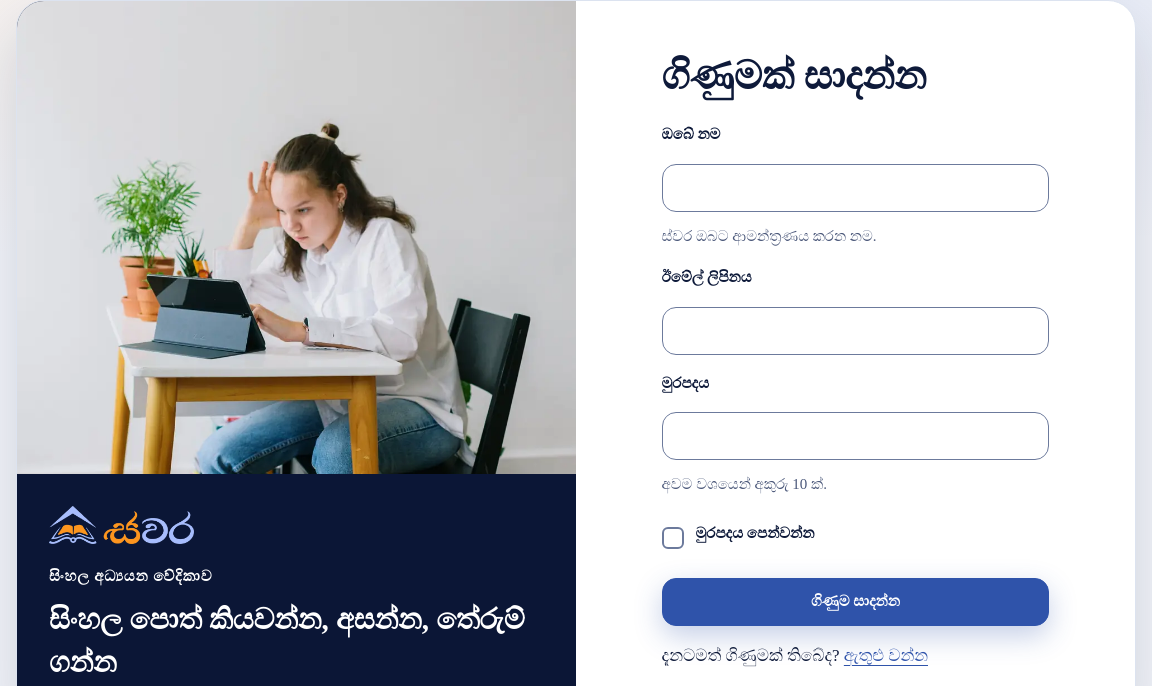
Test case: making an account › says when an address already has an account, and what to do
The image size is (1152, 686).
In the field labelled "ඔබේ නම": (856, 188) x1=662 y1=164 x2=1049 y2=212, type "සිතාරා"
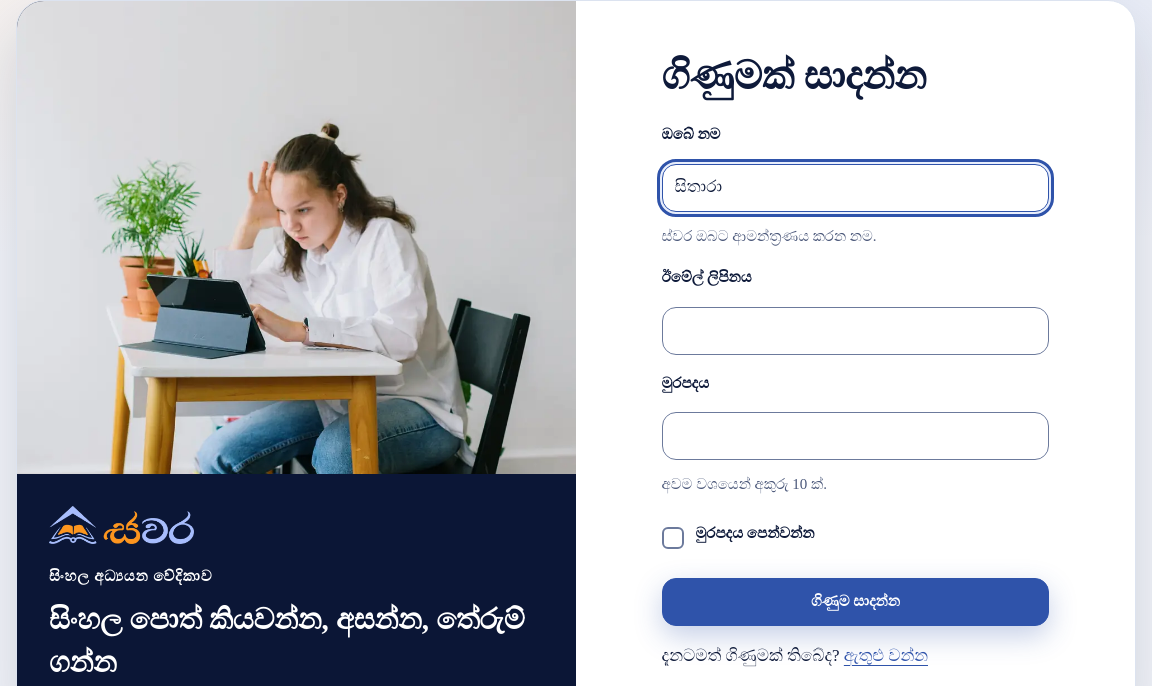
In the field labelled "ඊමේල් ලිපිනය": (856, 331) x1=662 y1=307 x2=1049 y2=355, type "nimali@example.lk"
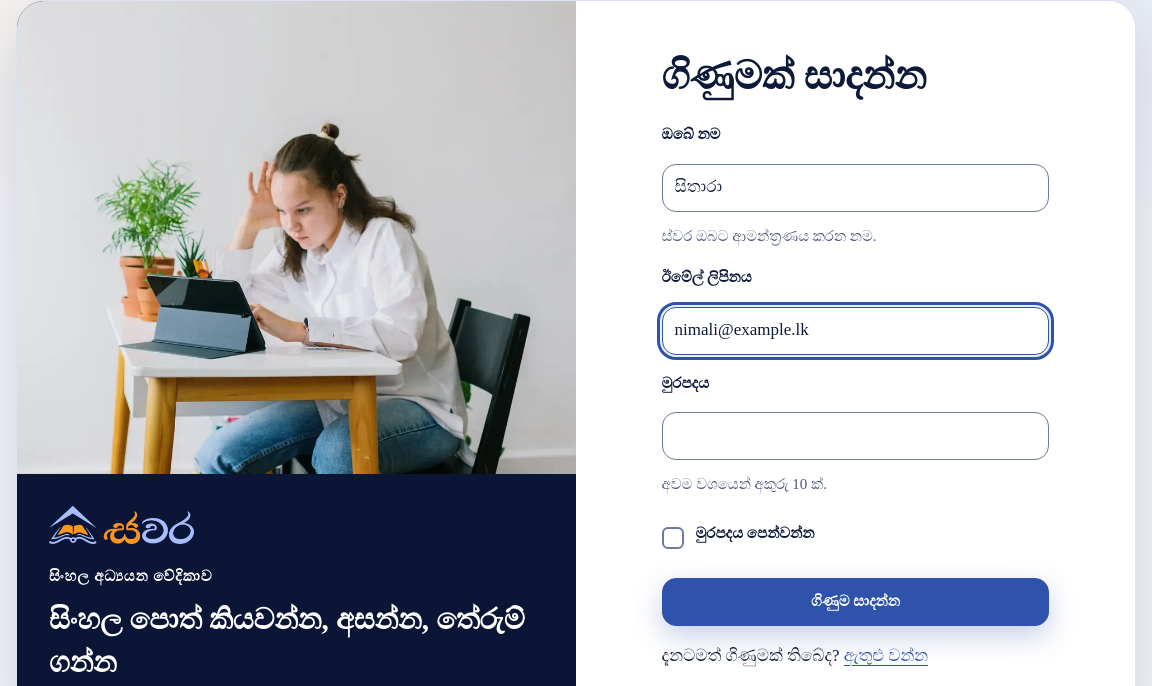
In the password field labelled "මුරපදය": (856, 436) x1=662 y1=412 x2=1049 y2=460, type "a-long-enough-password"
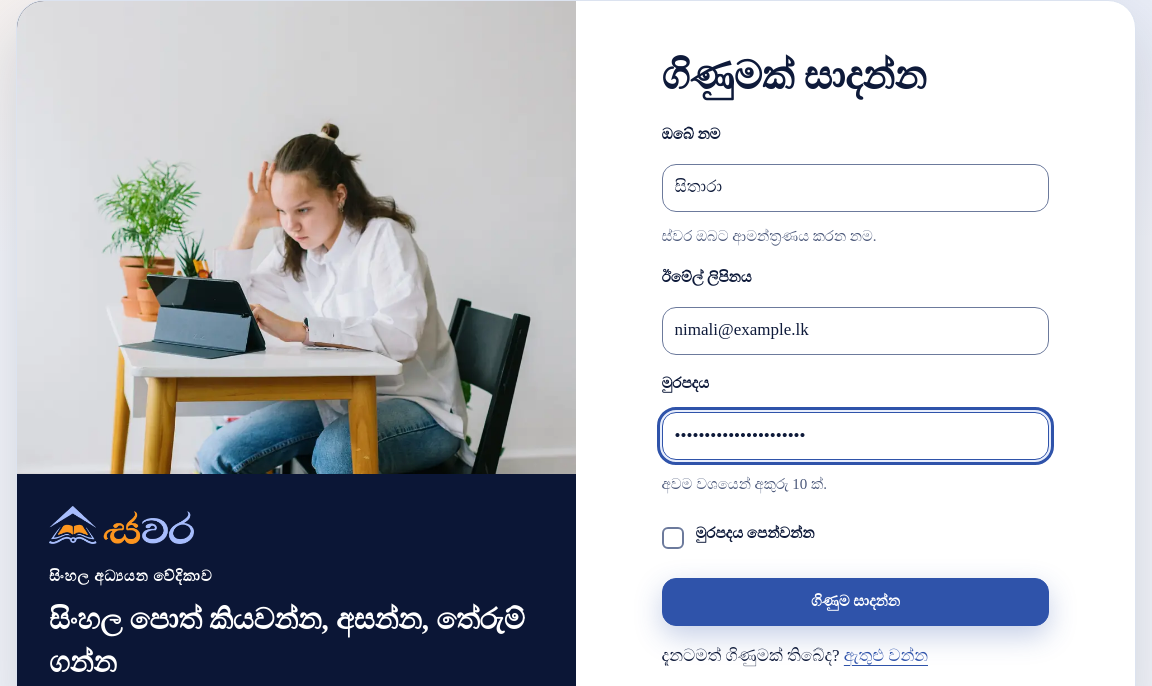
Click the button "ගිණුම සාදන්න": (856, 602) x1=662 y1=578 x2=1049 y2=626
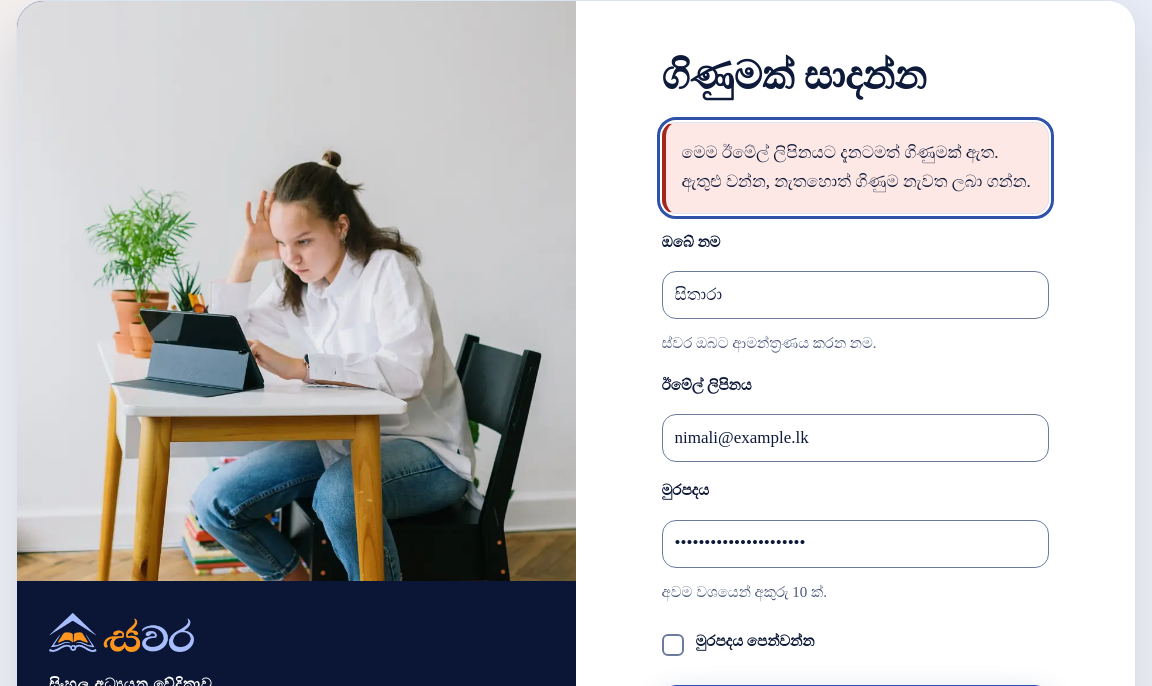
expect the text "මෙම ඊමේල් ලිපිනයට දැනටමත් ගිණුමක් ඇත. ඇතුළු වන්න, නැතහොත් ගිණුම නැවත ලබා ගන්න." is shown: met, box x1=662 y1=122 x2=1049 y2=214
